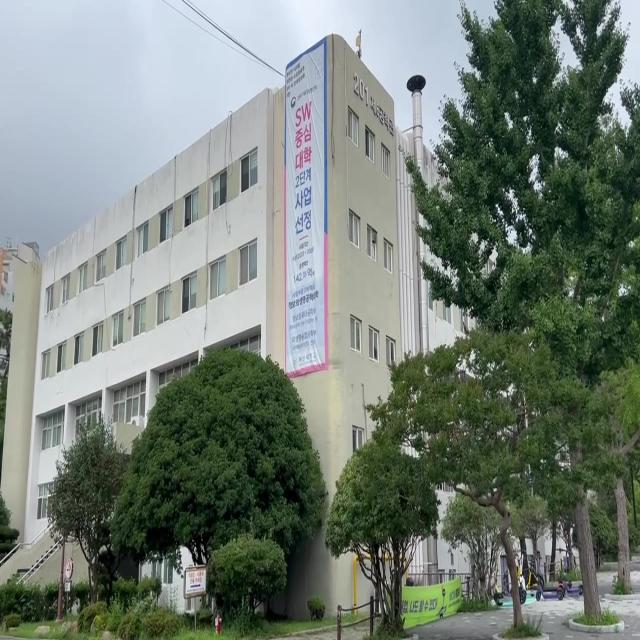building: (22, 138, 287, 362)
